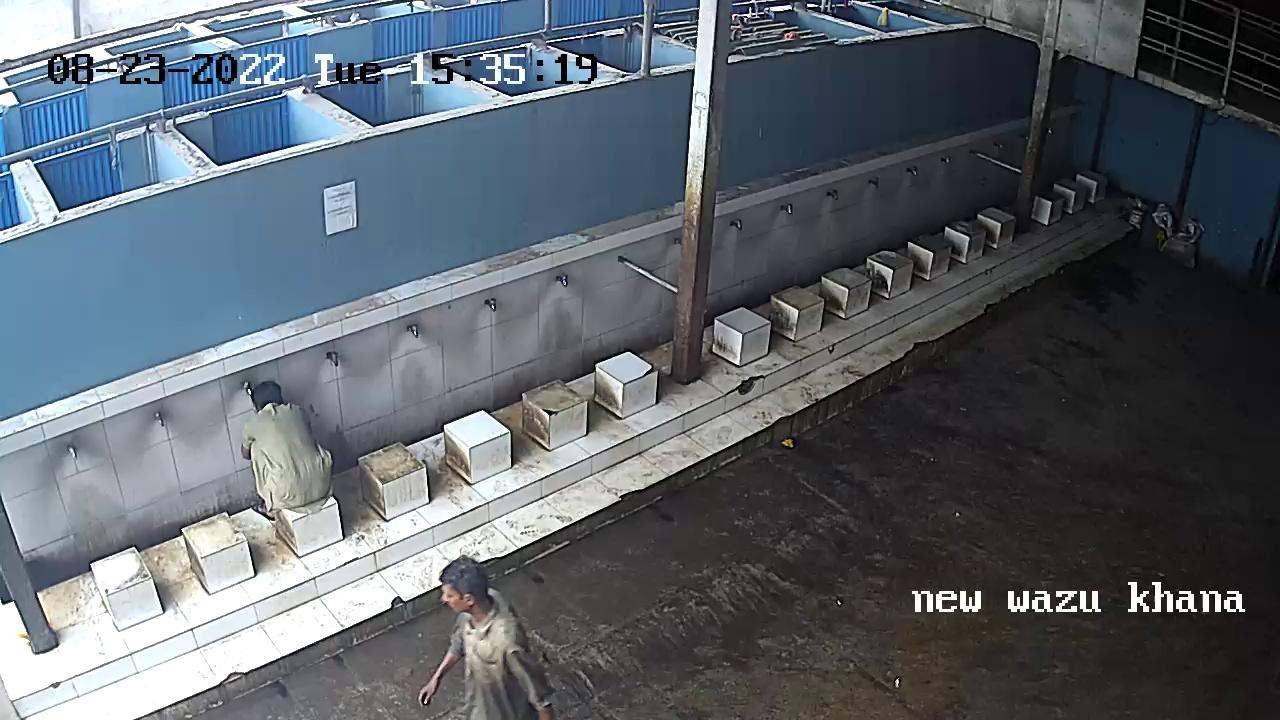person: (436, 553, 548, 720), (235, 384, 340, 507)
